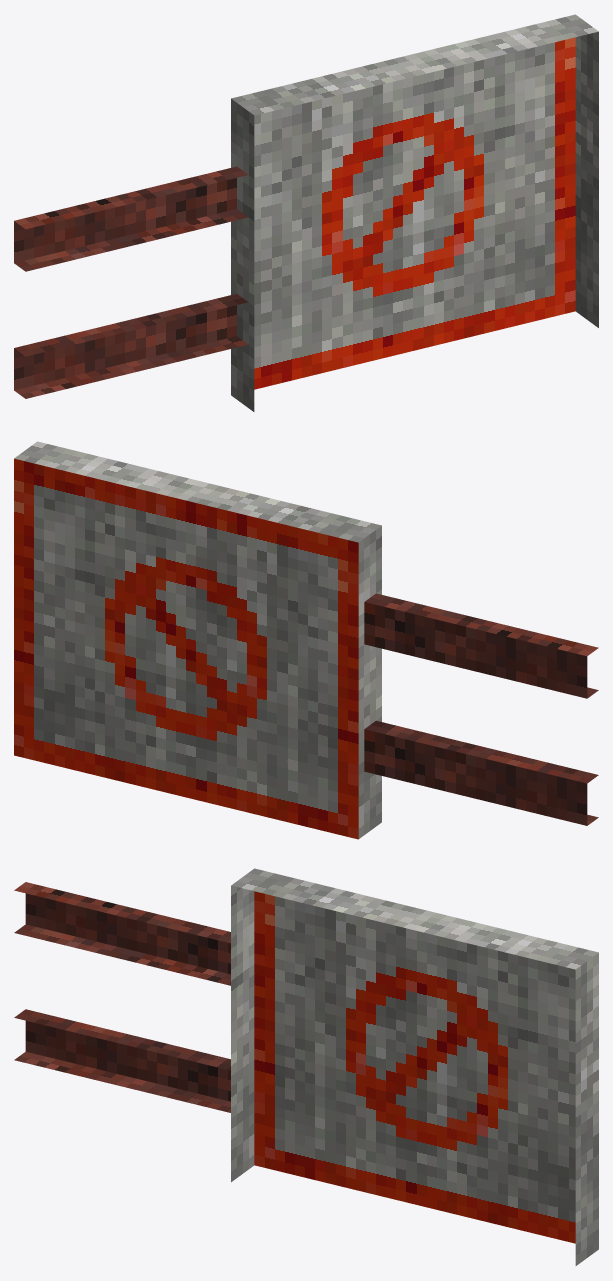
The model's file is door_station.fbx.
3 views of the same model, one above another, from view 1: azimuth 30°, elevation 25°; view 2: azimuth 150°, elevation 25°; view 3: azimuth 330°, elevation 25° (orthographic).
Visible parts, largest first — view 1: cube_2, cube, cube_1; view 2: cube_2, cube, cube_1; view 3: cube_2, cube_1, cube.
Boxes of the visible parts, bbox=[...] form: cube_2: bbox=[231, 14, 598, 411]; cube: bbox=[14, 166, 248, 271]; cube_1: bbox=[14, 293, 248, 398]; cube_2: bbox=[14, 441, 381, 839]; cube: bbox=[364, 593, 598, 698]; cube_1: bbox=[364, 720, 598, 825]; cube_2: bbox=[231, 868, 598, 1265]; cube_1: bbox=[14, 1009, 230, 1112]; cube: bbox=[14, 882, 230, 985].
Size of the model in its own units: 175 by 87.5 by 12.5.
1 material, 1 textured.
